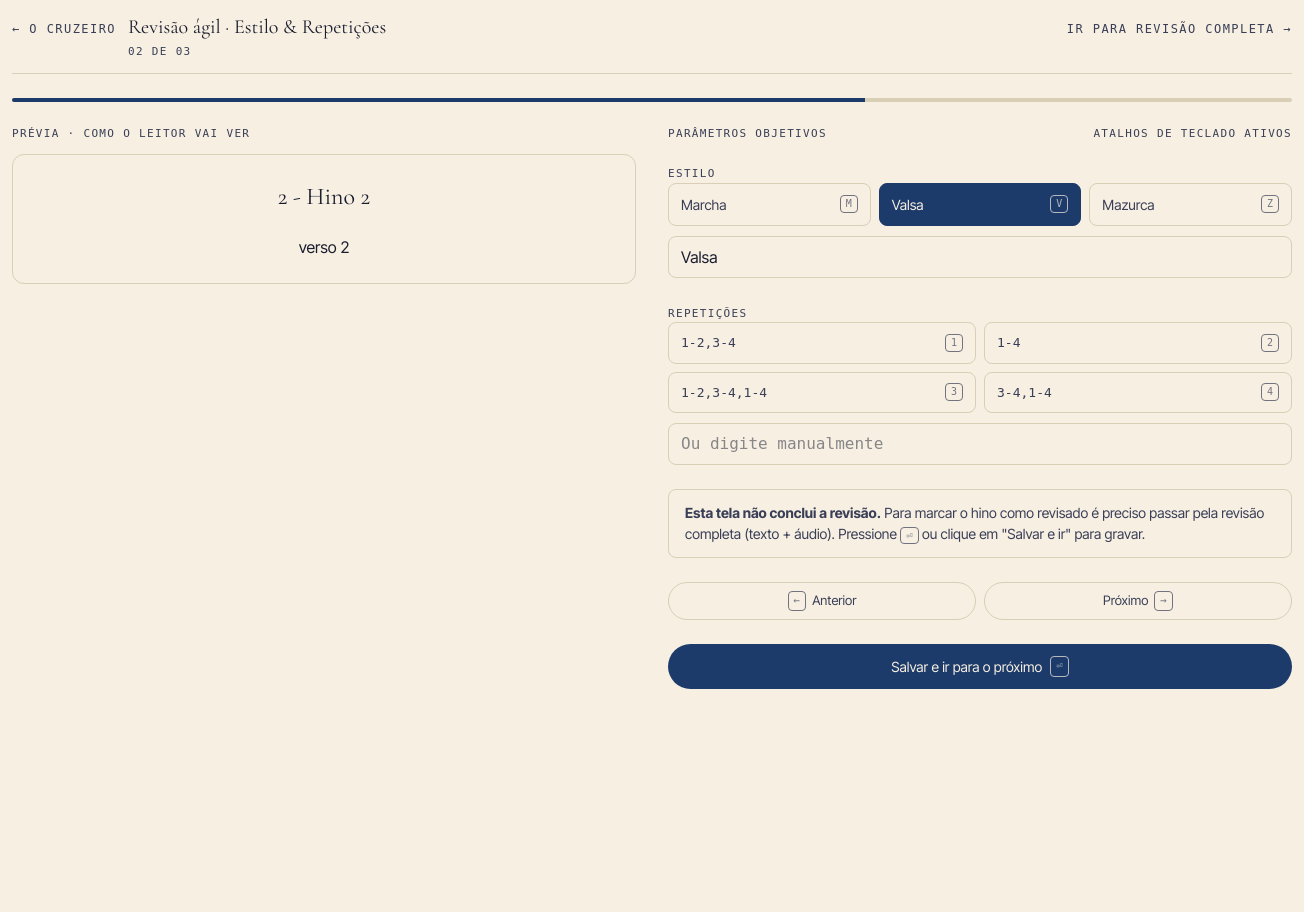
Test: /editor/hinarios/[slug]/revisao-agil — submit (5E.3) › mostra a negativa de permissão sem navegar
Click the button with test id "quick-review-submit".
click(980, 666)  # box [668,644,1292,689]
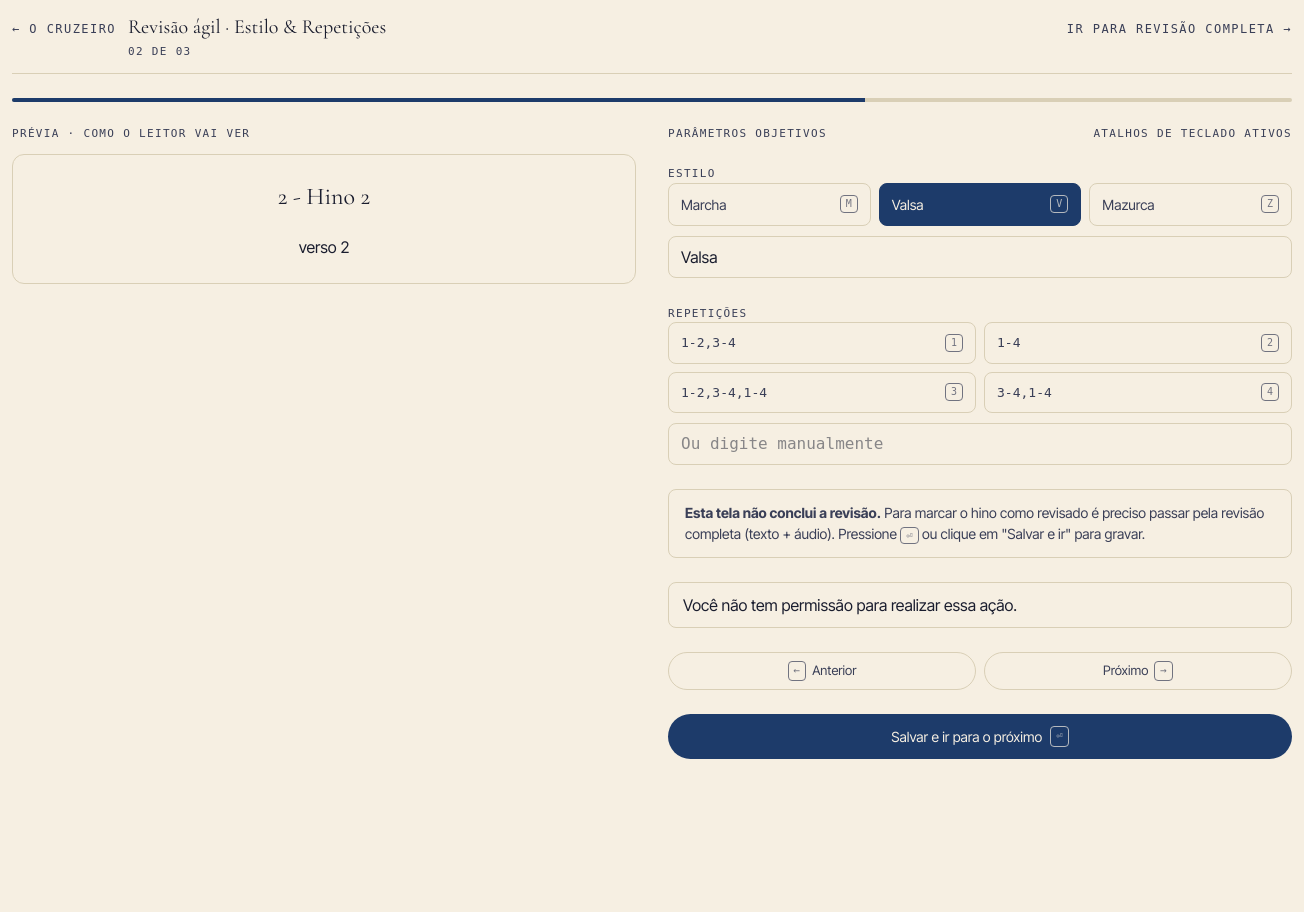
Check: the message "Você não tem permissão para realizar essa ação." is shown, box [668,582,1292,628]
